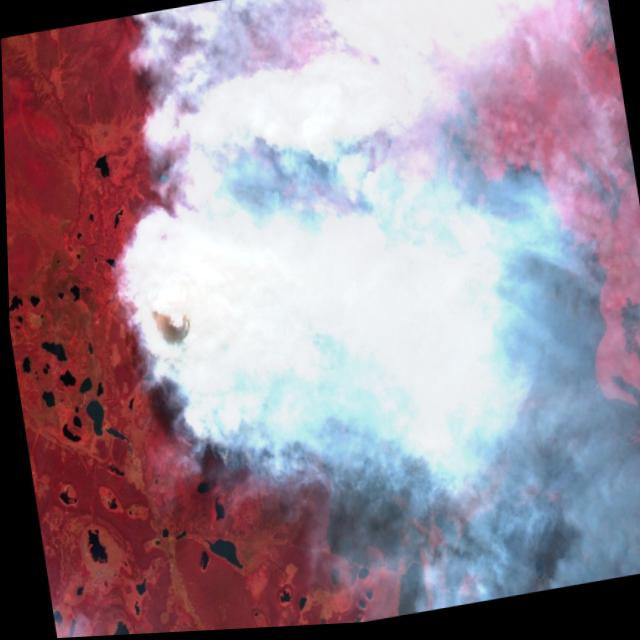fire: (100, 38, 477, 524)
